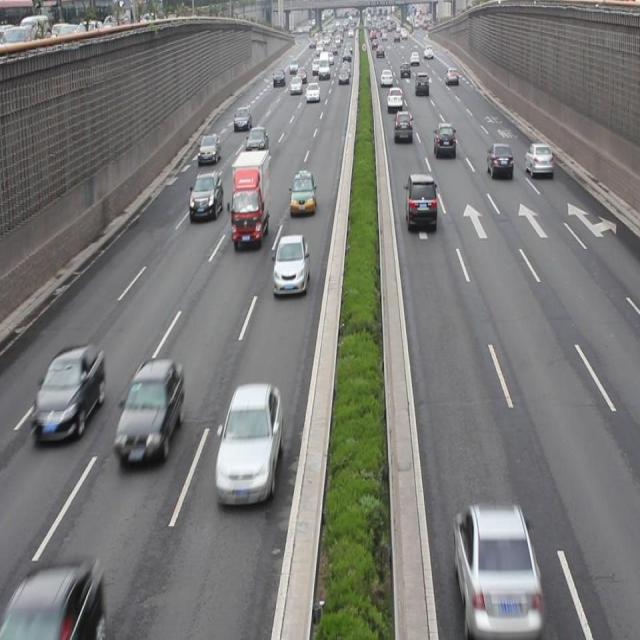bus: (230, 150, 269, 246)
car: (452, 499, 540, 625), (216, 383, 283, 504), (114, 356, 184, 468), (31, 344, 104, 445), (8, 559, 98, 640), (274, 232, 309, 294), (404, 172, 437, 232), (189, 171, 222, 222), (289, 171, 316, 215), (524, 140, 552, 179), (488, 141, 514, 180), (434, 120, 456, 160), (197, 132, 221, 167), (246, 124, 268, 153), (394, 108, 413, 140), (233, 105, 251, 132)
